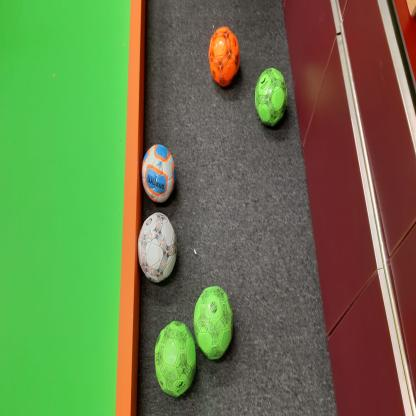ball: (155, 321, 196, 399), (194, 287, 234, 361), (137, 211, 177, 282), (141, 143, 176, 204), (255, 68, 288, 126), (209, 27, 239, 88)
